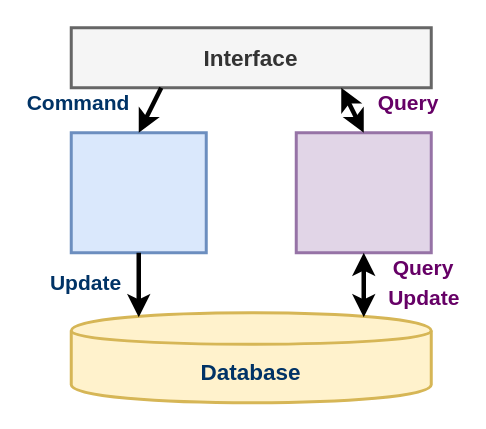
The diagram is 486 pixels wide and 429 high, and some of its shapes have lost their labels. The shapes that lost their labels are listed below. From the top down, each one's centre as x and y in pixels, then its label:
At pixel 138 192: "Command Model".
At pixel 363 192: "Query Model".
